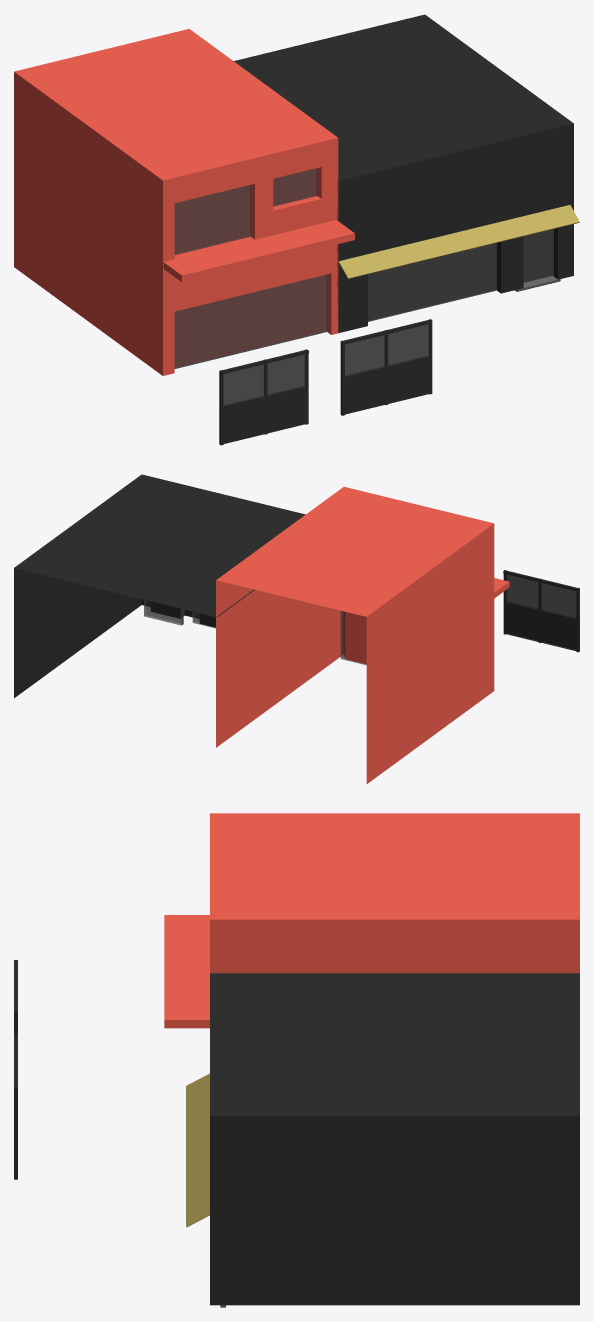
The model's file is edificio 2.fbx.
The picture shows the model from 3 angles, top to bottom: view 1: azimuth 30°, elevation 25°; view 2: azimuth 150°, elevation 25°; view 3: azimuth 270°, elevation 25°; orthographic projection. The views are drawn at different scales.
Parts seen in each view (by area): view 1: BARTOLOME, LA MIRA, VENTANAS Y PUERTAS, ADD, DEC LA MIRA; view 2: BARTOLOME, LA MIRA, ADD, VENTANAS Y PUERTAS; view 3: LA MIRA, BARTOLOME, DEC LA MIRA, ADD.
Part boxes in pixels (x1,y1,x2,y2): BARTOLOME: [14, 29, 354, 375]; LA MIRA: [234, 14, 573, 333]; VENTANAS Y PUERTAS: [174, 168, 560, 368]; ADD: [219, 319, 432, 445]; DEC LA MIRA: [338, 205, 579, 279]; BARTOLOME: [216, 487, 509, 783]; LA MIRA: [14, 474, 305, 698]; ADD: [503, 570, 579, 652]; VENTANAS Y PUERTAS: [144, 599, 366, 665]; LA MIRA: [210, 973, 579, 1305]; BARTOLOME: [164, 813, 579, 1028]; DEC LA MIRA: [186, 1073, 209, 1227]; ADD: [14, 960, 17, 1179].
Size of the model in its own units: 1043 by 466 by 953.
